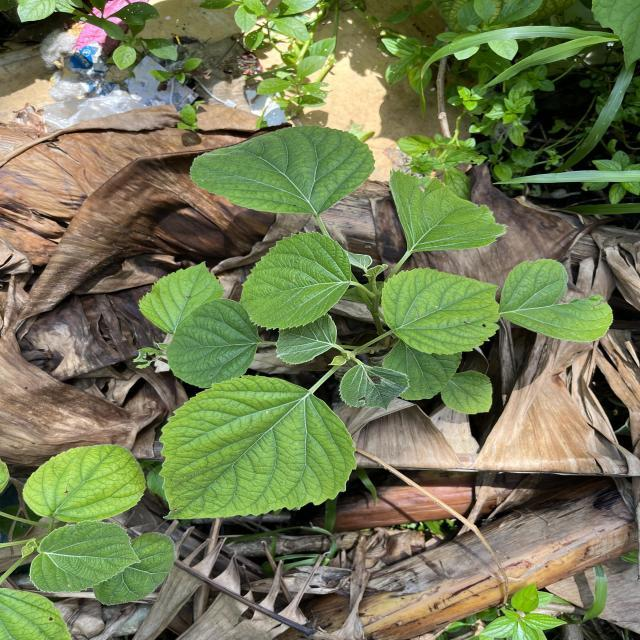Clerodendrum infortunatum: (158, 373, 358, 523), (188, 122, 378, 216), (238, 230, 354, 333), (379, 266, 501, 356), (20, 442, 148, 524), (496, 258, 614, 344), (388, 168, 508, 252), (166, 297, 260, 389), (29, 518, 142, 594), (138, 260, 226, 335), (439, 370, 494, 416)
